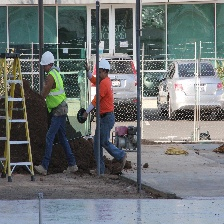helmet: (41, 51, 57, 67), (98, 60, 111, 74)
person: (34, 50, 79, 181), (81, 54, 128, 179)
vest: (45, 69, 67, 114)
